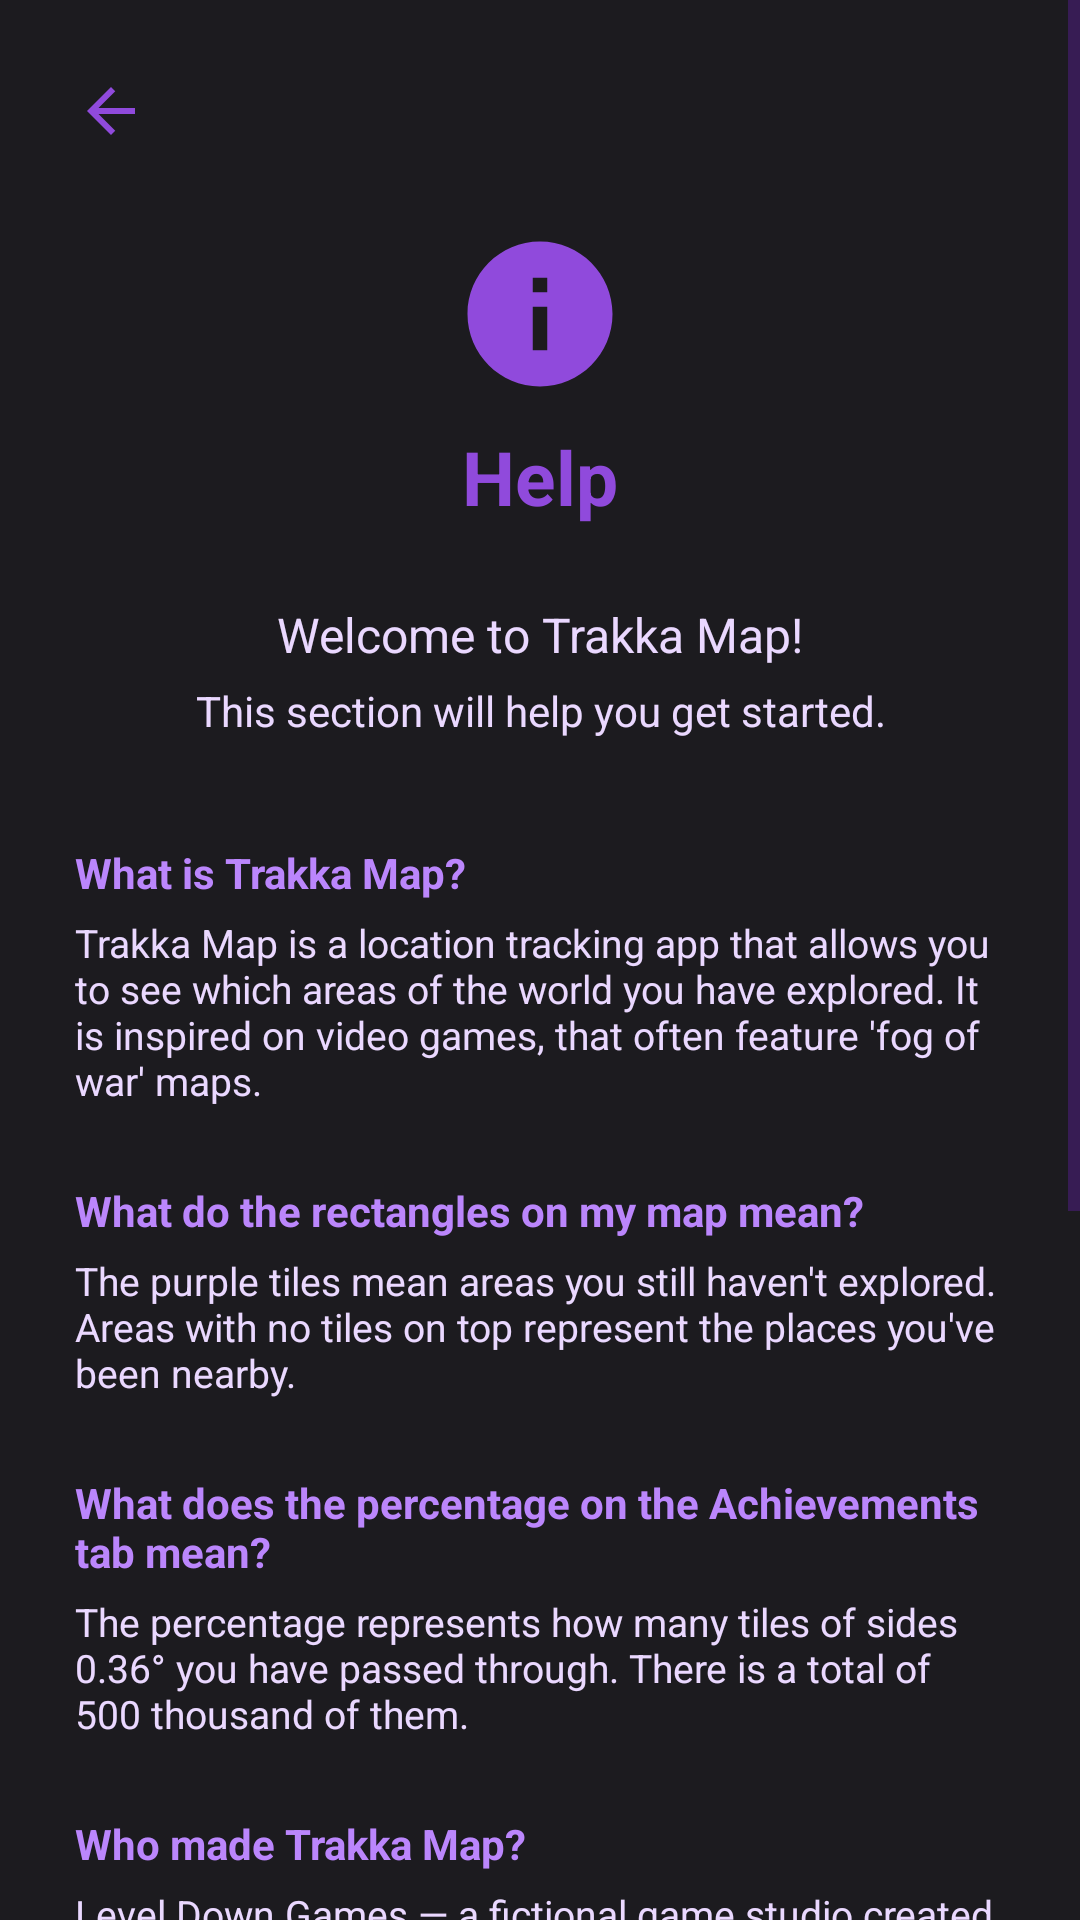

Point at icon controls on the screen. Image size 1080*1920, points as [x,y].
arrow back: [111,111]
